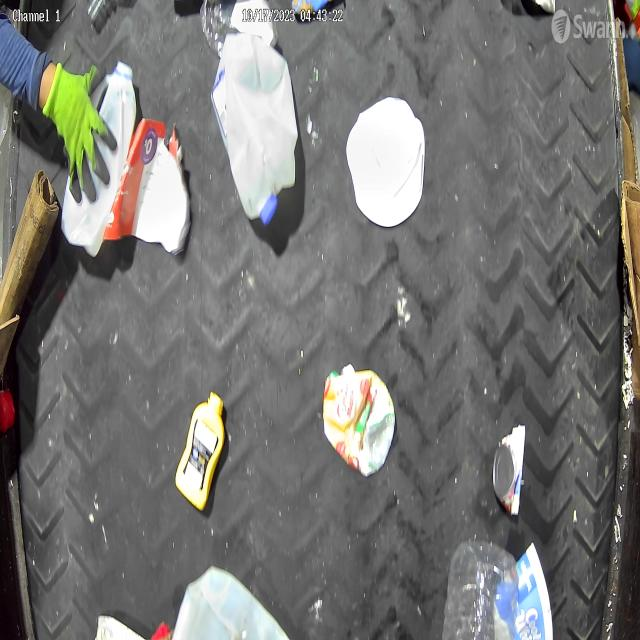can: (492, 426, 526, 518)
milk_jug: (213, 32, 301, 227), (169, 566, 298, 640)
non_white_jug: (174, 392, 225, 512)
